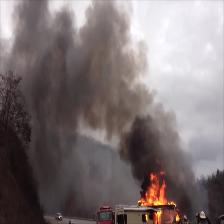fire: (144, 172, 168, 203)
smoke: (27, 30, 73, 140), (81, 29, 125, 121), (130, 121, 176, 172)
